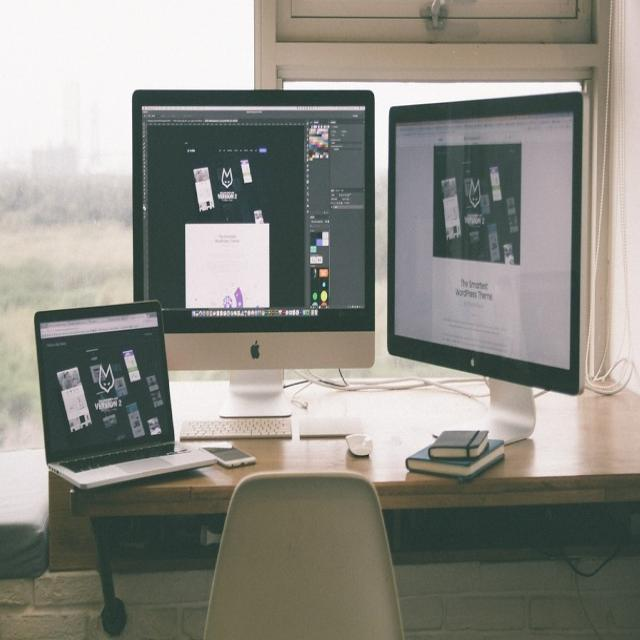E-waste: (29, 0, 624, 493)
